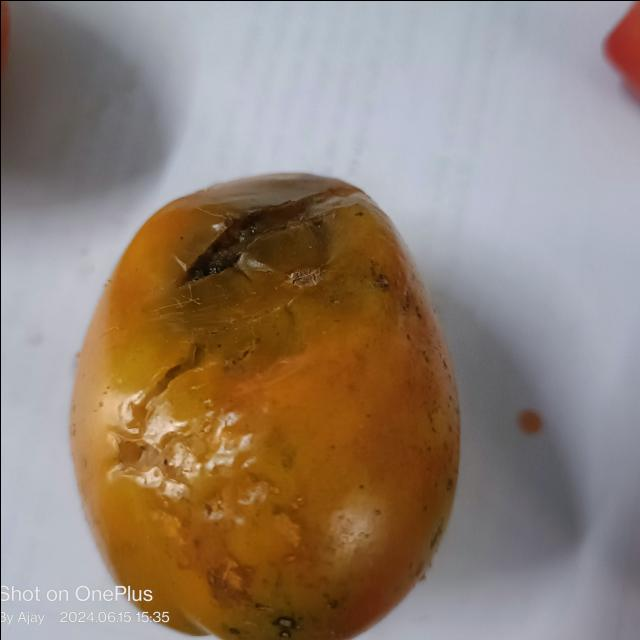Botrytis: (178, 178, 356, 284), (117, 358, 213, 434)
